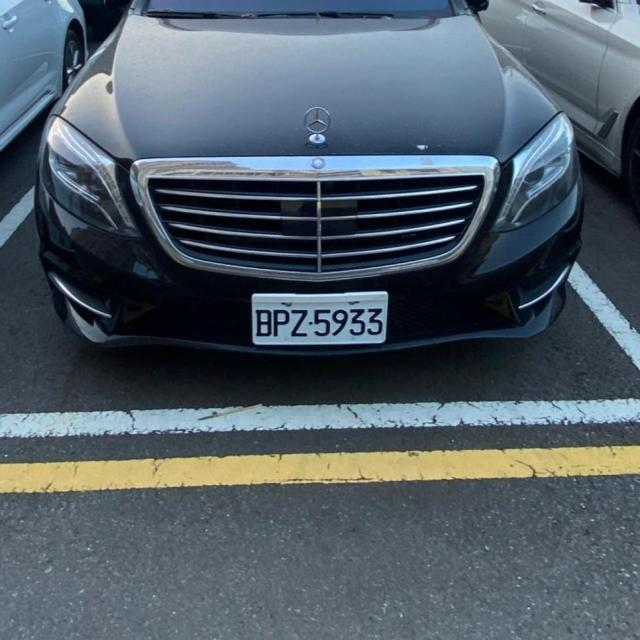W: (244, 289, 395, 352)
